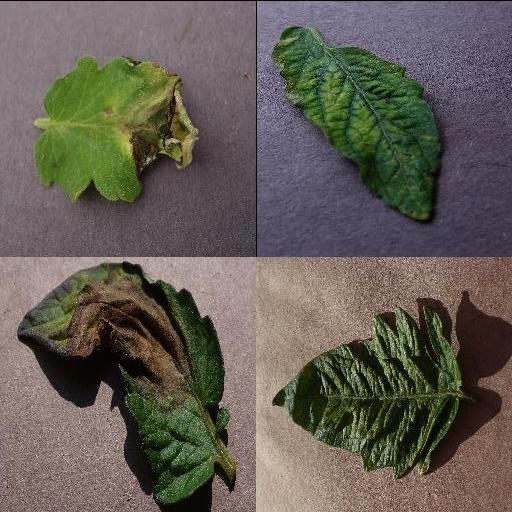Late Blight: (18, 260, 232, 502), (36, 53, 200, 203)
Mosaic Virus: (270, 24, 442, 222)
Spider Mites: (271, 305, 463, 477)
